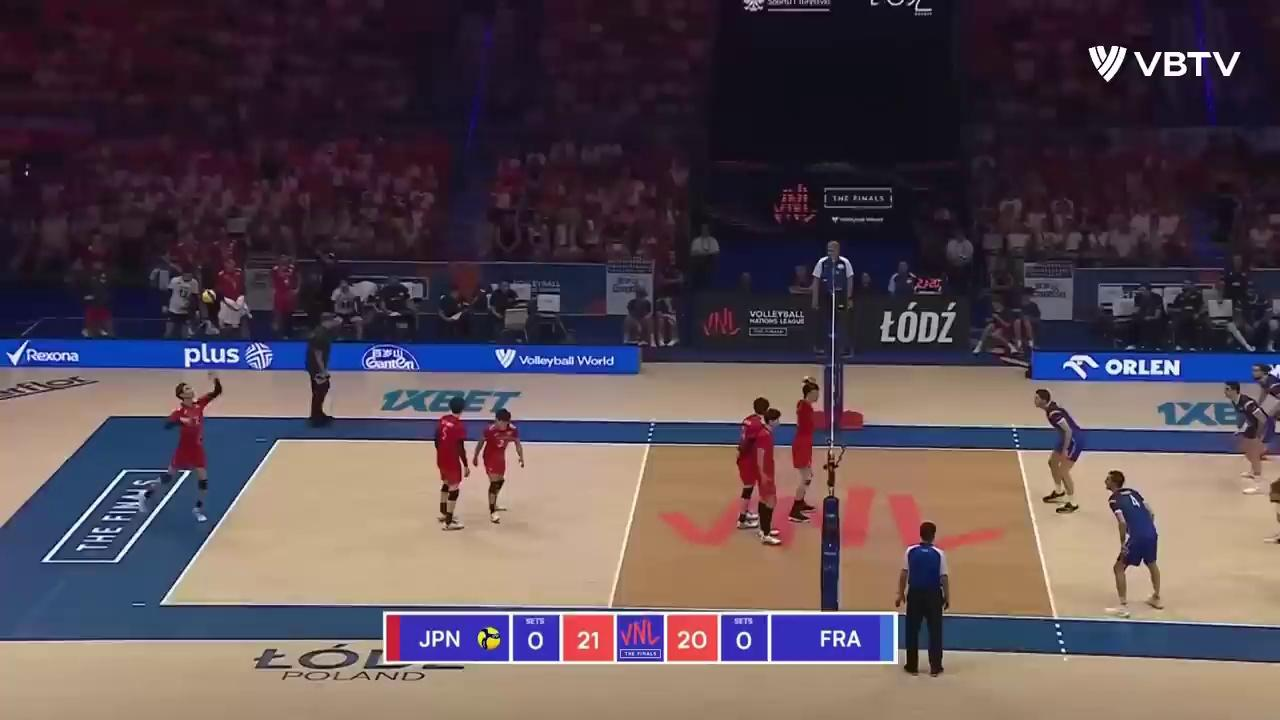ball: (203, 287, 216, 305)
